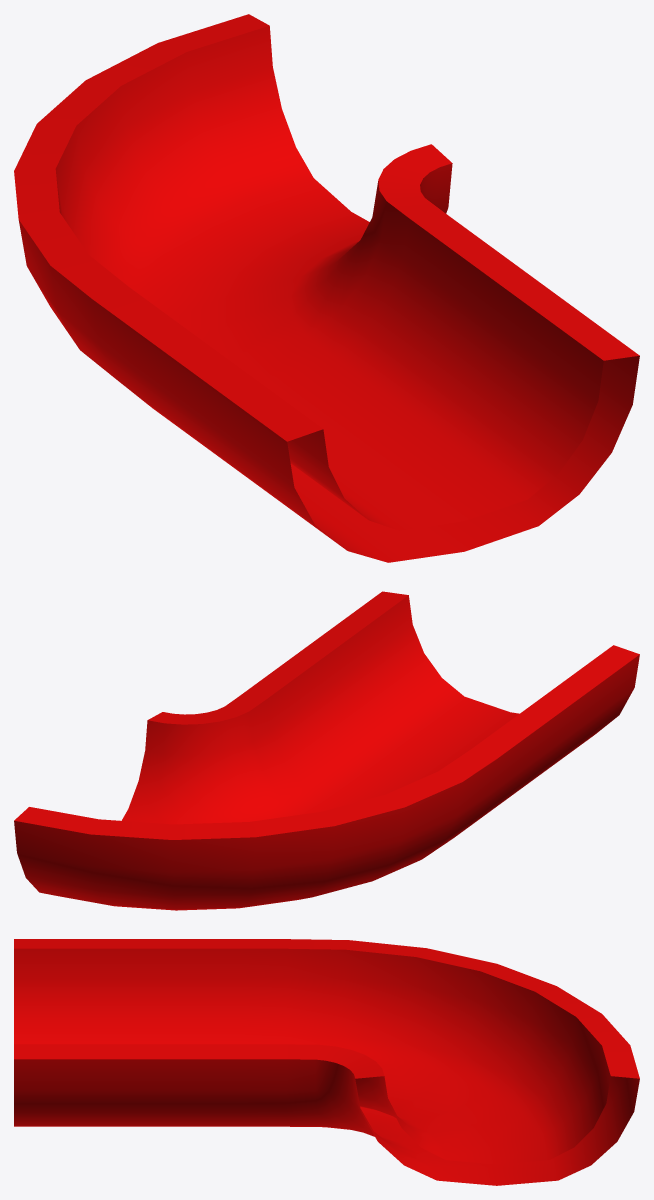
File: Extruded_Connector_Pipe_Elbox_Artery.fbx
The picture shows the model from 3 angles, top to bottom: view 1: azimuth 30°, elevation 25°; view 2: azimuth 150°, elevation 25°; view 3: azimuth 270°, elevation 25°; orthographic projection. The views are drawn at different scales.
Parts seen in each view (by area): view 1: Extruded_Connector_Pipe_Elbow:pPipe17; view 2: Extruded_Connector_Pipe_Elbow:pPipe17; view 3: Extruded_Connector_Pipe_Elbow:pPipe17.
Boxes of the visible parts, box(x1,y1,x2,y2) form: Extruded_Connector_Pipe_Elbow:pPipe17: box(14, 14, 639, 562); Extruded_Connector_Pipe_Elbow:pPipe17: box(14, 591, 639, 910); Extruded_Connector_Pipe_Elbow:pPipe17: box(14, 939, 639, 1185).
Bounding box in the file's own units: 2.8 × 1.02 × 5.3.
